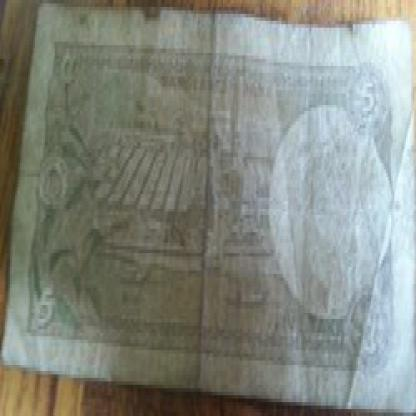Five Taka: (35, 277, 58, 340), (358, 305, 381, 368), (356, 66, 379, 128), (58, 31, 78, 97)
